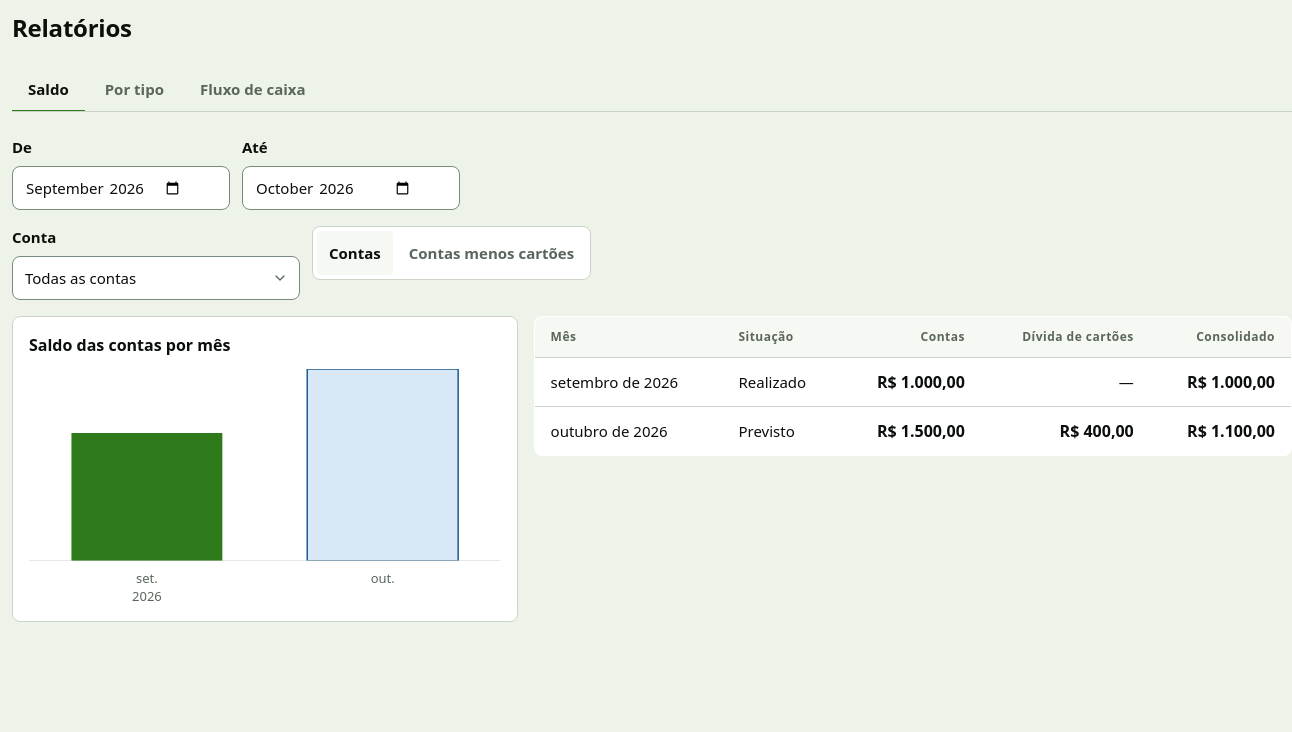
ReportsPage (spec 0015) › filters Saldo by account and shows that account numbers
Expected: the table is shown, x1=534 y1=316 x2=1291 y2=456
Select "Conta corrente" in the dropdown labelled "Conta": (156, 278) x1=12 y1=256 x2=300 y2=300
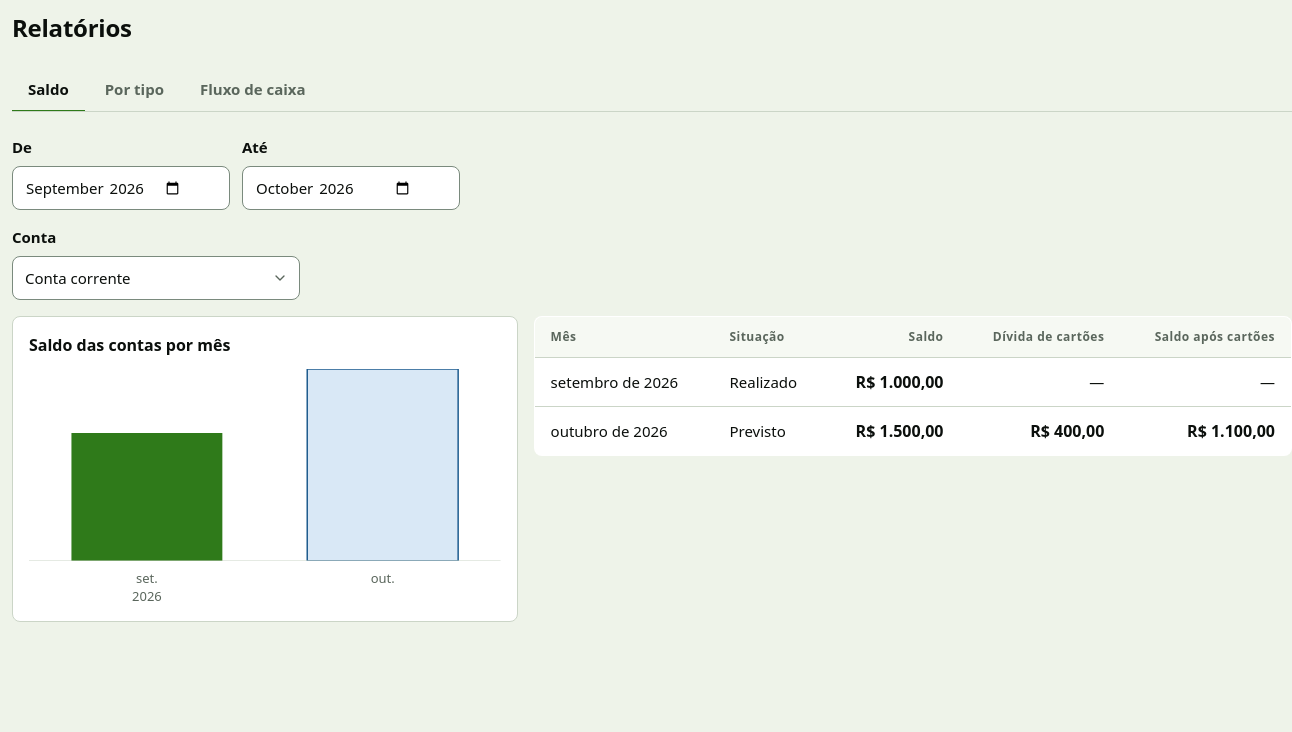
Expected: the column heading "Saldo após cartões" is shown, x1=1120 y1=316 x2=1291 y2=357
Expected: the button "Contas menos cartões" is gone
